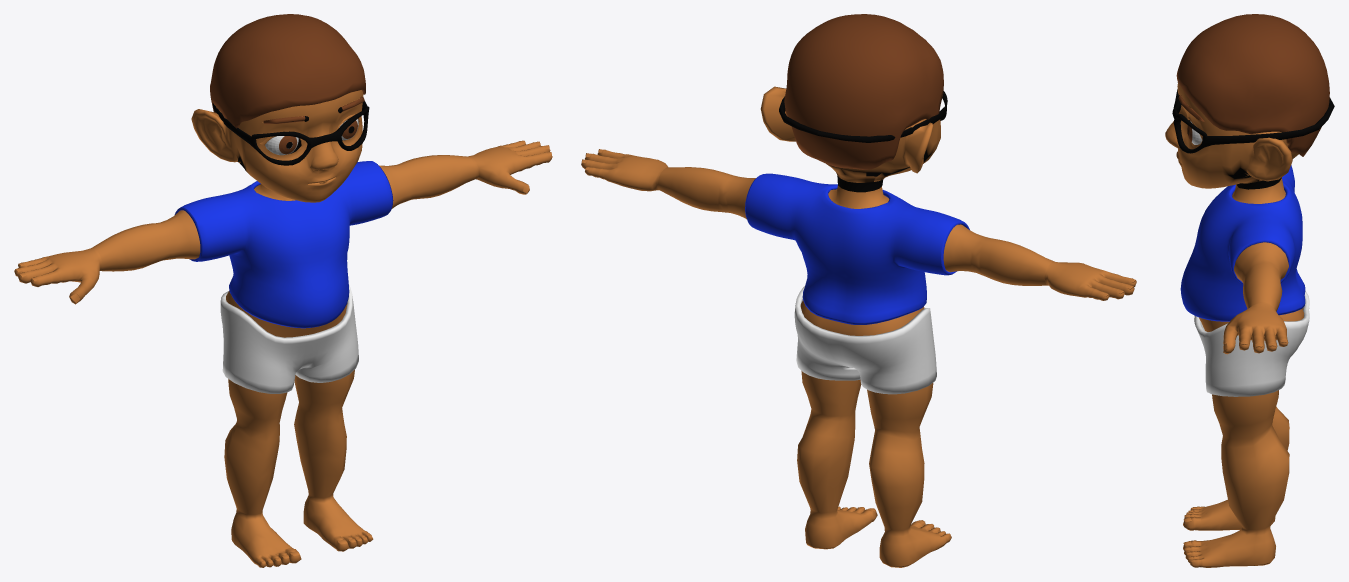
File: Travis.fbx
3 renders of one model, left to right at view 1: azimuth 30°, elevation 25°; view 2: azimuth 150°, elevation 25°; view 3: azimuth 270°, elevation 25°, orthographic. The views are drawn at different scales.
Visible parts, largest first — view 1: body, SmallShirt, hair, Head, Dipper, glasses; view 2: body, SmallShirt, hair, Dipper, Head, glasses; view 3: body, hair, SmallShirt, Head, Dipper, glasses.
Boxes of the visible parts, x1,y1,x2,y2 form: body: (14,140,552,567); SmallShirt: (174,161,393,328); hair: (210,14,365,131); Head: (191,90,363,202); Dipper: (220,285,358,393); glasses: (212,101,369,165); body: (581,149,1136,567); SmallShirt: (745,173,969,324); hair: (784,14,943,169); Dipper: (794,286,936,394); Head: (760,86,940,192); glasses: (779,91,947,142); body: (1183,178,1304,567); hair: (1176,14,1329,156); SmallShirt: (1180,165,1305,321); Head: (1165,82,1298,189); Dipper: (1194,290,1309,396); glasses: (1172,89,1334,153).
Size of the model in its own units: 241 by 222 by 65.9.
